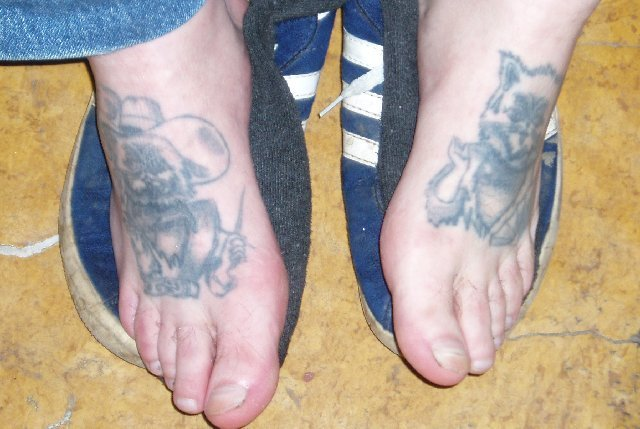tatu8_kot: (83, 80, 264, 304), (423, 40, 570, 247)
